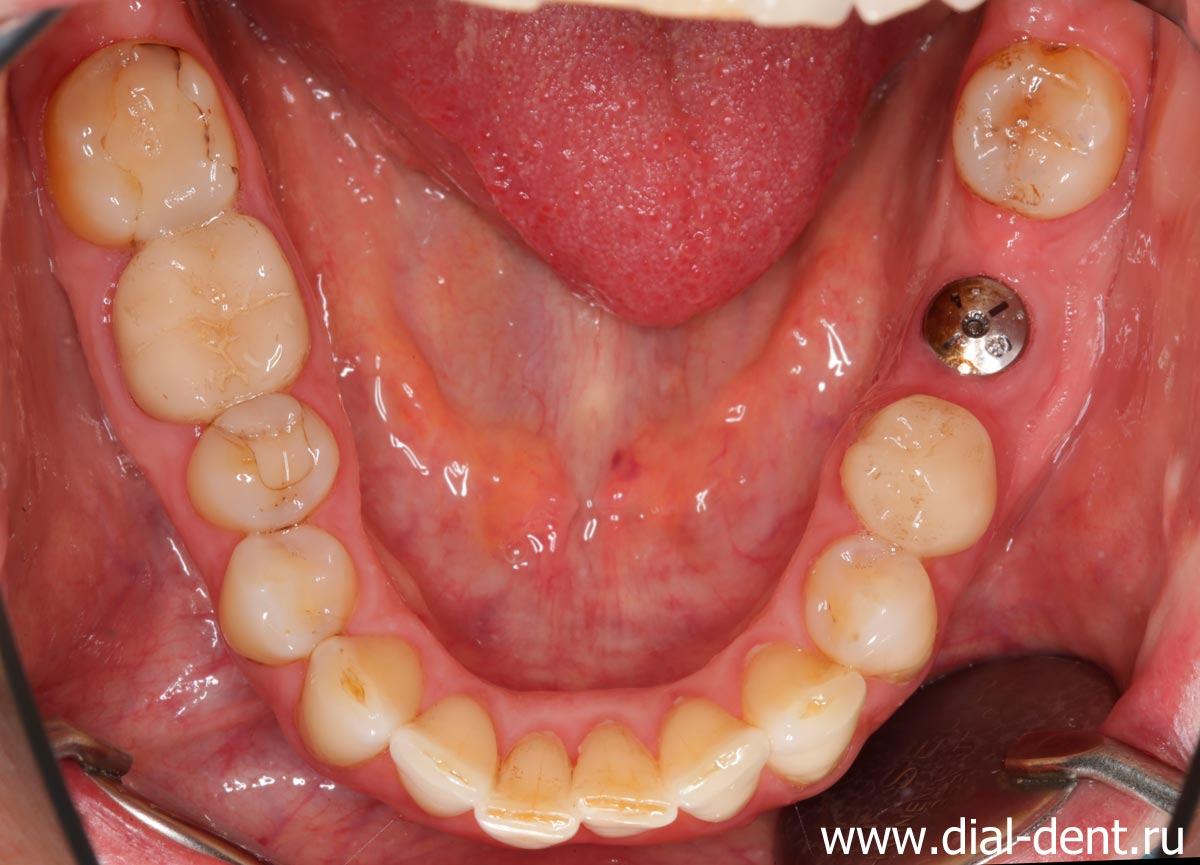LL1BC_healthy: (808, 543, 940, 680)
LL2BC_healthy: (840, 399, 998, 551)
LL2M_decay: (970, 55, 1118, 219)
LLCI_healthy: (576, 717, 674, 841)
LLC_healthy: (743, 650, 861, 778)
LLLI_healthy: (661, 698, 773, 820)
LR1BC_healthy: (222, 532, 356, 650)
LR1M_decay: (118, 233, 311, 398)
LR2BC_decay: (188, 403, 343, 525)
LR2M_decay: (50, 42, 239, 229)
LRCI_healthy: (492, 725, 578, 846)
LRC_decay: (309, 630, 414, 748)
LRLI_healthy: (402, 693, 491, 830)
